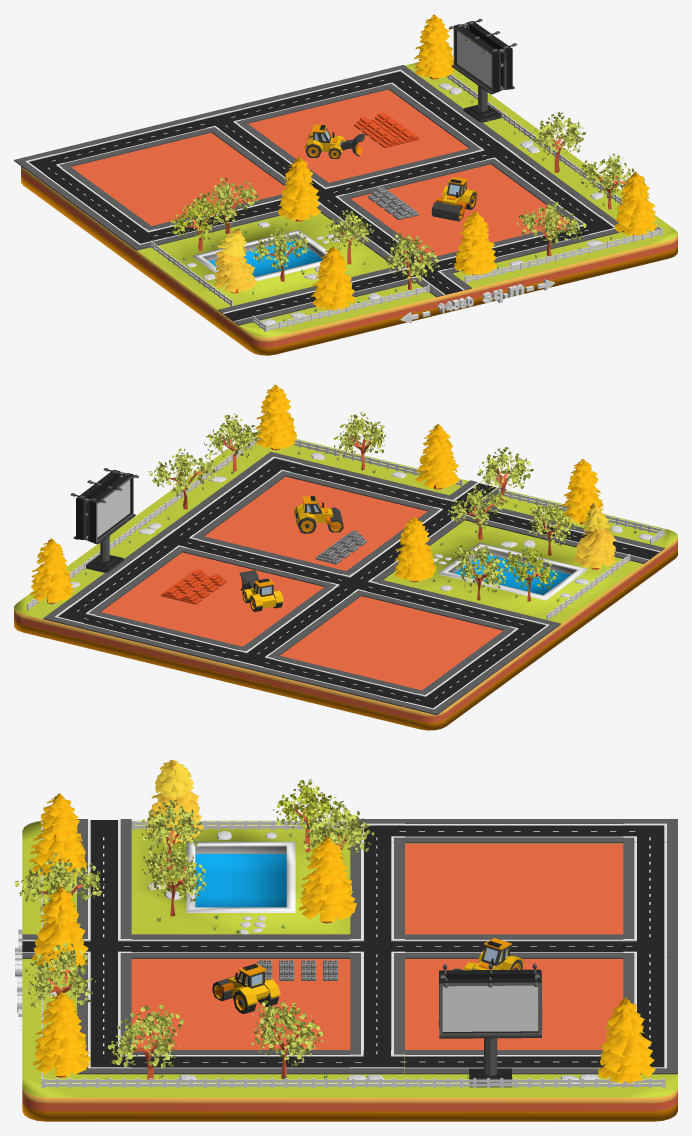
The model's file is VillaPool.glb.
3 views of the same model, one above another, from view 1: azimuth 30°, elevation 25°; view 2: azimuth 150°, elevation 25°; view 3: azimuth 270°, elevation 25° (orthographic). The views are drawn at different scales.
Parts seen in each view (by area): view 1: 3.010, Billboar.005, 1.200, 1.183, 1.185, 1.196, 1.186, 1.198, 1.191, 1.194, Cube.249, 1.197 (+27 smaller); view 2: 3.010, Billboar.005, 1.183, 1.200, 1.190, 1.185, 1.184, 1.194, 1.186, 1.191, 1.198, 1.196 (+28 smaller); view 3: 3.010, Billboar.005, 1.196, 1.197, 1.186, Cube.249, 1.183, 1.185, 1.194, 1.184, 1.191, 1.198 (+27 smaller).
Boxes of the visible parts, x1,y1,x2,y2 form: 3.010: (21,62,677,355); Billboar.005: (448,18,517,122); 1.200: (227,73,388,123); 1.183: (49,116,211,166); 1.185: (329,148,490,198); 1.196: (218,266,415,325); 1.186: (34,166,150,235); 1.198: (388,80,505,148); 1.191: (491,154,607,222); 1.194: (211,123,328,186); Cube.249: (446,74,662,276); 1.197: (316,198,429,266); 3.010: (14,432,677,730); Billboar.005: (70,468,138,572); 1.183: (258,655,421,706); 1.200: (79,612,242,662); 1.190: (285,460,449,511); 1.185: (182,536,345,586); 1.184: (361,580,524,630); 1.194: (243,586,361,655); 1.186: (422,630,540,699); 1.191: (167,467,285,536); 1.198: (64,542,182,611); 1.196: (465,504,664,563); 3.010: (15,820,677,1121); Billboar.005: (438,963,541,1087); 1.196: (77,819,131,935); 1.197: (131,934,350,958); 1.186: (405,819,623,843); Cube.249: (41,968,665,1087); 1.183: (623,842,677,935); 1.185: (350,957,404,1050); 1.194: (405,934,623,958); 1.184: (350,842,404,935); 1.191: (131,1050,350,1074); 1.198: (405,1050,605,1074).
Size of the model in its own units: 12.04 by 2.68 by 12.15.
Materials: 1 (1 with a texture image).
